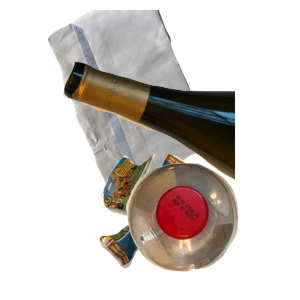glass: (60, 59, 300, 231)
paper: (45, 10, 251, 190)
plastic: (124, 161, 300, 300)
trash: (97, 151, 283, 300)
